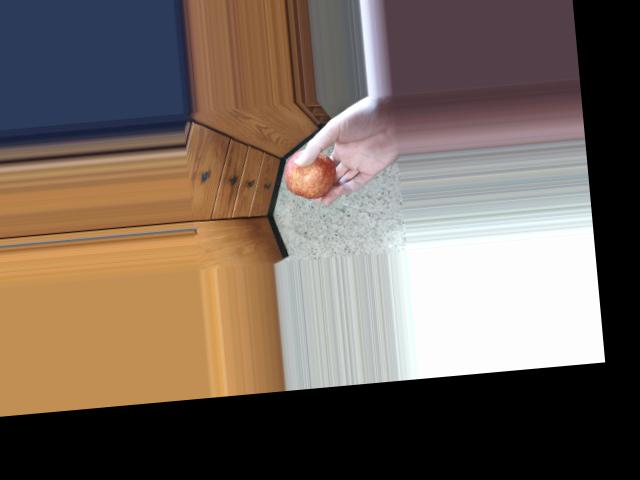apple: (275, 139, 347, 204)
